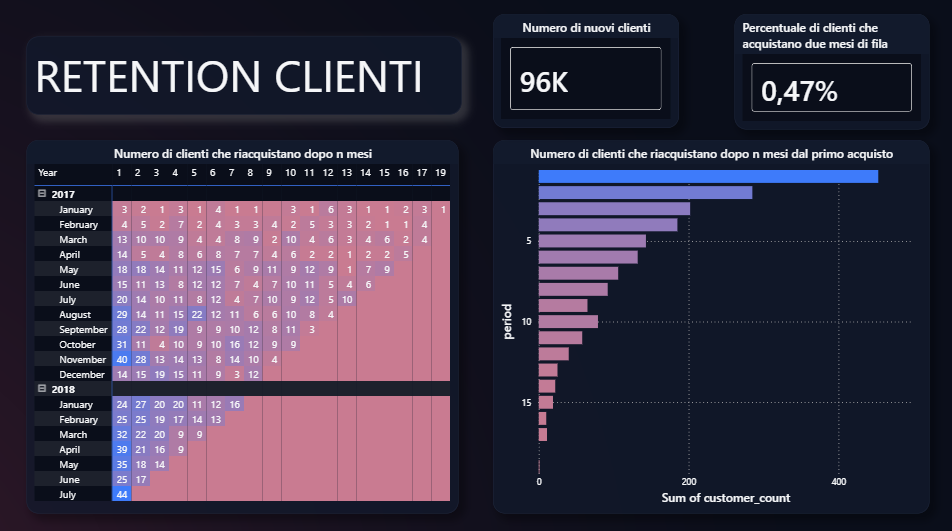

The page's visual inventory and layout, read from the dashboard file:
{"tool":"powerbi","page":{"name":"Retention","canvas":[1280,720],"ordinal":4},"visuals":[{"type":"pivotTable","title":"Numero di clienti che riacquistano dopo n mesi","fields":{"Columns":["cohort.period"],"Values":["Sum(cohort.customer_count)"],"Rows":["cohort.cohort_month.Variation.Date Hierarchy.Year","cohort.cohort_month.Variation.Date Hierarchy.Month"]},"box":[38,188,576,498],"z":0},{"type":"cardVisual","title":"Percentuale di clienti che acquistano due mesi di fila","fields":{"Data":["cohort.retention_p1"]},"box":[982,20,260,154],"z":1000},{"type":"barChart","title":"Numero di clienti che riacquistano dopo n mesi dal primo acquisto","fields":{"Category":["cohort.period"],"Y":["Sum(cohort.customer_count)"]},"box":[660,188,582,498],"z":2000},{"type":"cardVisual","title":"Numero di nuovi clienti","fields":{"Data":["Sum(cohort.customer_count)"]},"box":[660,20,248,152],"z":3000},{"type":"textbox","box":[38,50,580,92],"z":4000}]}

Visuals, with their boxes in screenshot pixels (x1, y1, x2, y2), scaled from the page's 1280x720 canvas onto the 952x531 screenshot:
"Numero di clienti che riacquistano dopo n mesi" pivotTable: rect(28, 139, 457, 506)
"Percentuale di clienti che acquistano due mesi di fila" cardVisual: rect(730, 15, 924, 128)
"Numero di clienti che riacquistano dopo n mesi dal primo acquisto" barChart: rect(491, 139, 924, 506)
"Numero di nuovi clienti" cardVisual: rect(491, 15, 675, 127)
textbox: rect(28, 37, 460, 105)
